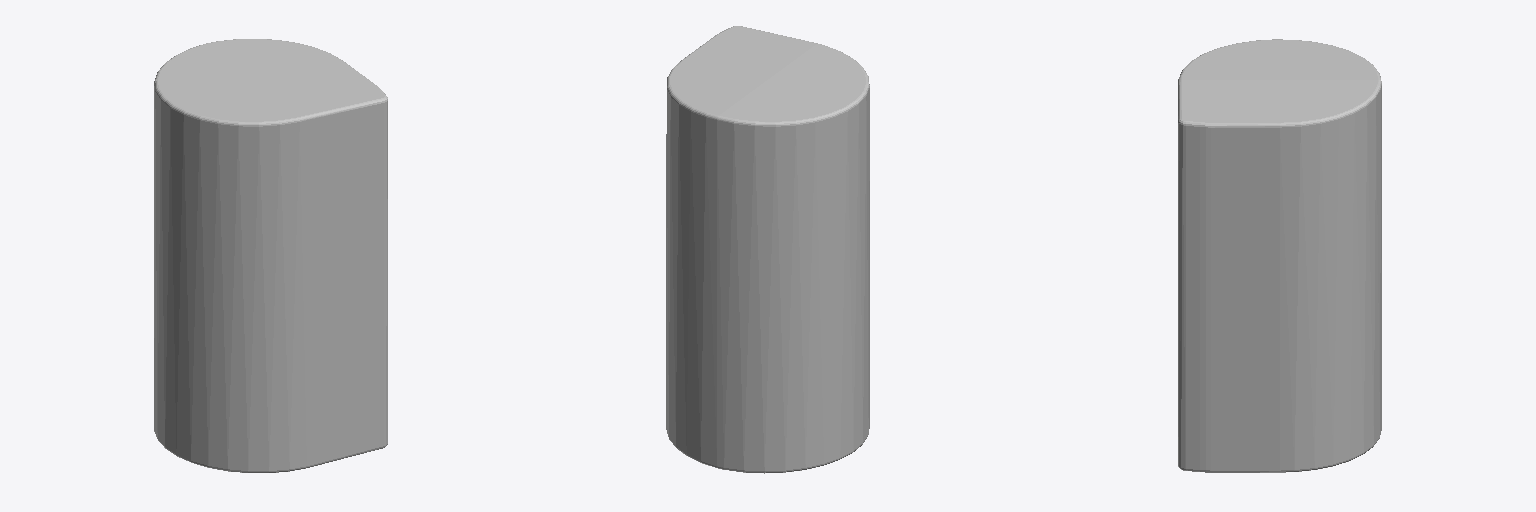
Rendered from head_tilt_link_collision.obj.
The picture shows the model from 3 angles: view 1: azimuth 30°, elevation 25°; view 2: azimuth 150°, elevation 25°; view 3: azimuth 270°, elevation 25°; orthographic projection.
Bounding box in the file's own units: 0.1099 × 0.21 × 0.11.